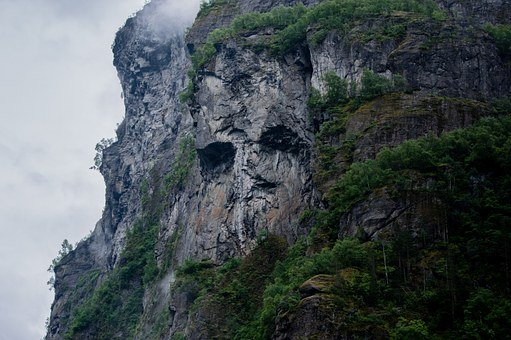mountain: (74, 12, 509, 340)
stone: (72, 10, 507, 338)
